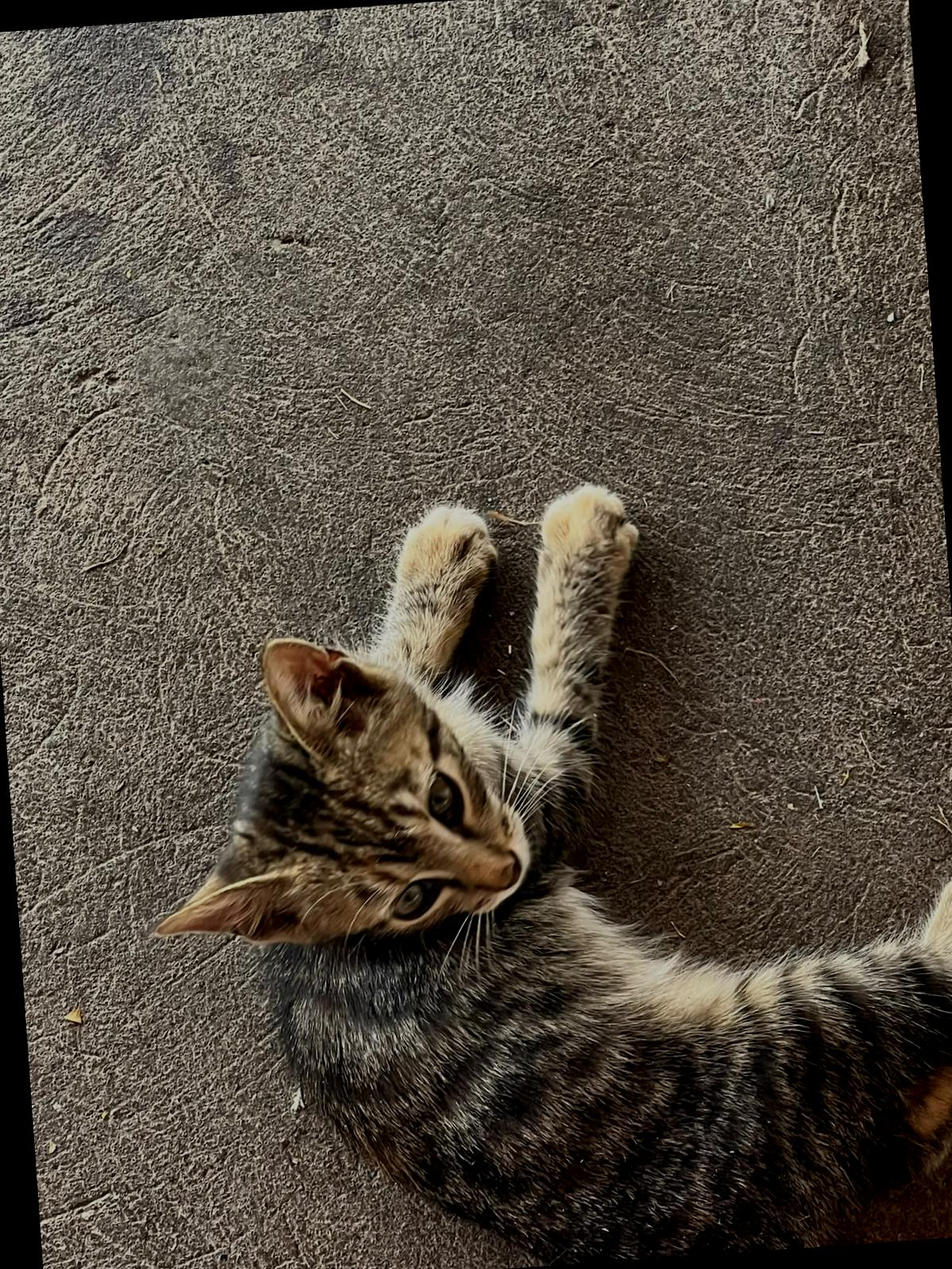macka: (122, 461, 952, 1269)
